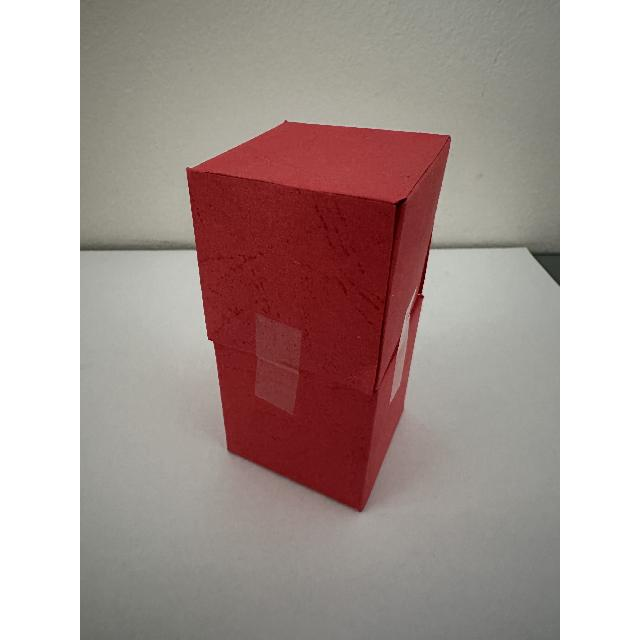red_cube: (169, 94, 486, 522)
